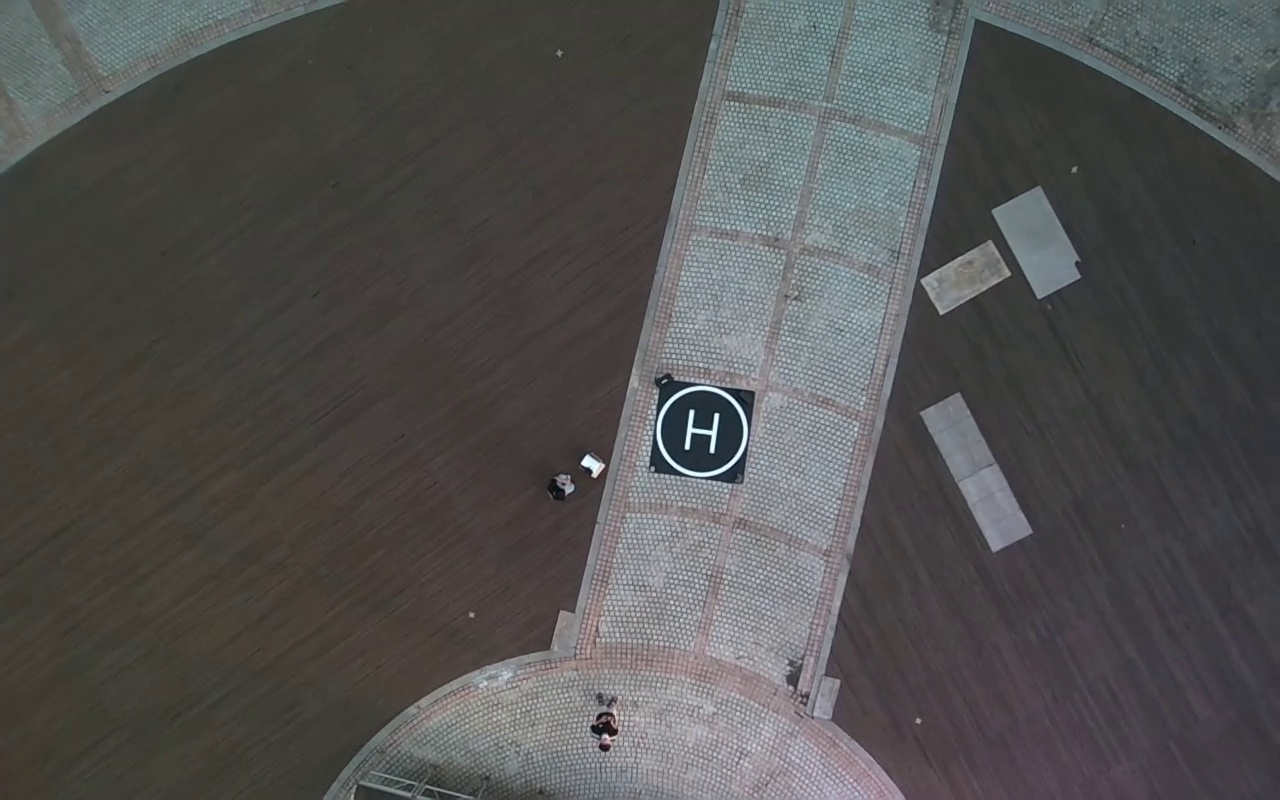H: (682, 408, 720, 452)
heliport: (657, 385, 749, 478)
